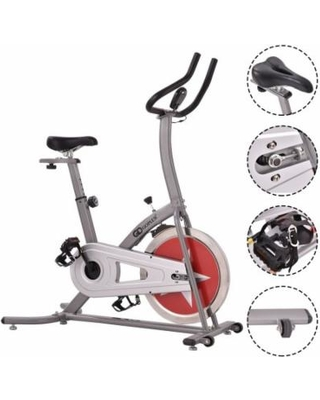gym_bike: (7, 51, 252, 351)
